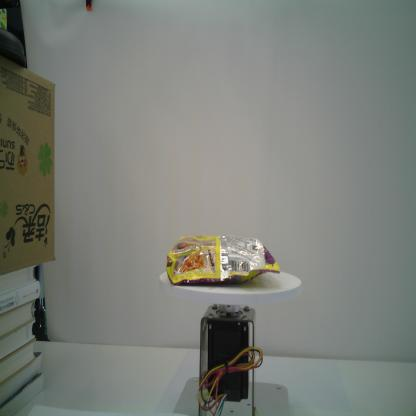Instant Noodles: (165, 233, 281, 287)
